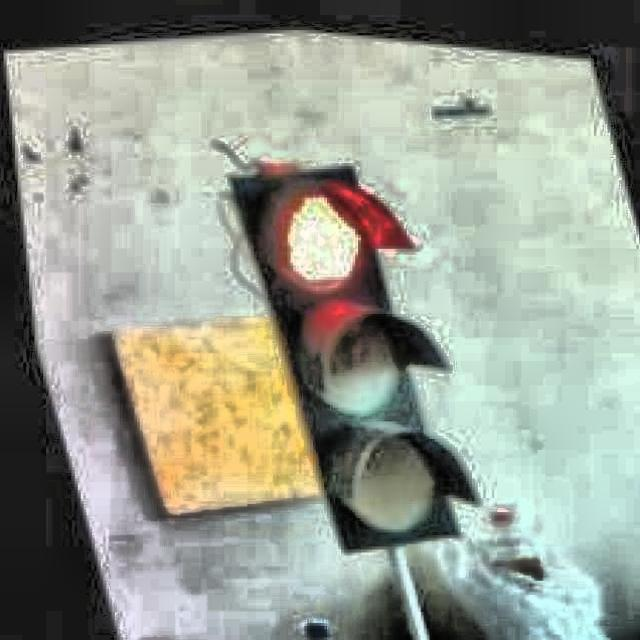red: (246, 172, 455, 546)
